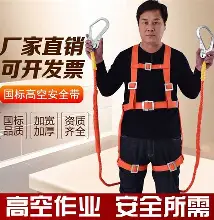safety belt: (117, 42, 186, 178)
